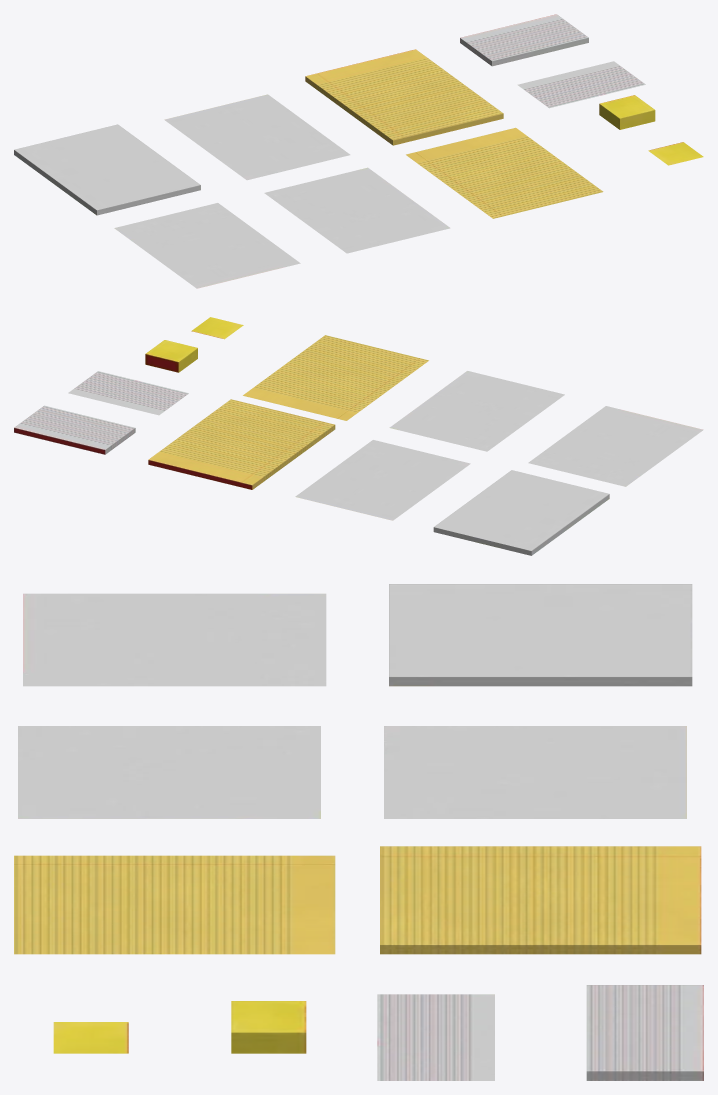
Rendered from office_notepads.glb.
3 renders of one model, top to bottom at view 1: azimuth 30°, elevation 25°; view 2: azimuth 150°, elevation 25°; view 3: azimuth 270°, elevation 25°, orthographic. The views are drawn at different scales.
Parts seen in each view (by area): view 1: office_notepads_yellow_sheet; view 2: office_notepads_yellow_sheet; view 3: office_notepads_yellow_sheet.
Boxes of the visible parts, x1,y1,x2,y2 form: office_notepads_yellow_sheet: [14, 14, 703, 288]; office_notepads_yellow_sheet: [14, 317, 703, 555]; office_notepads_yellow_sheet: [14, 584, 703, 1080].
Size of the model in its own units: 1.1 by 0.022 by 0.6598.
Materials: 1 (1 with a texture image).
